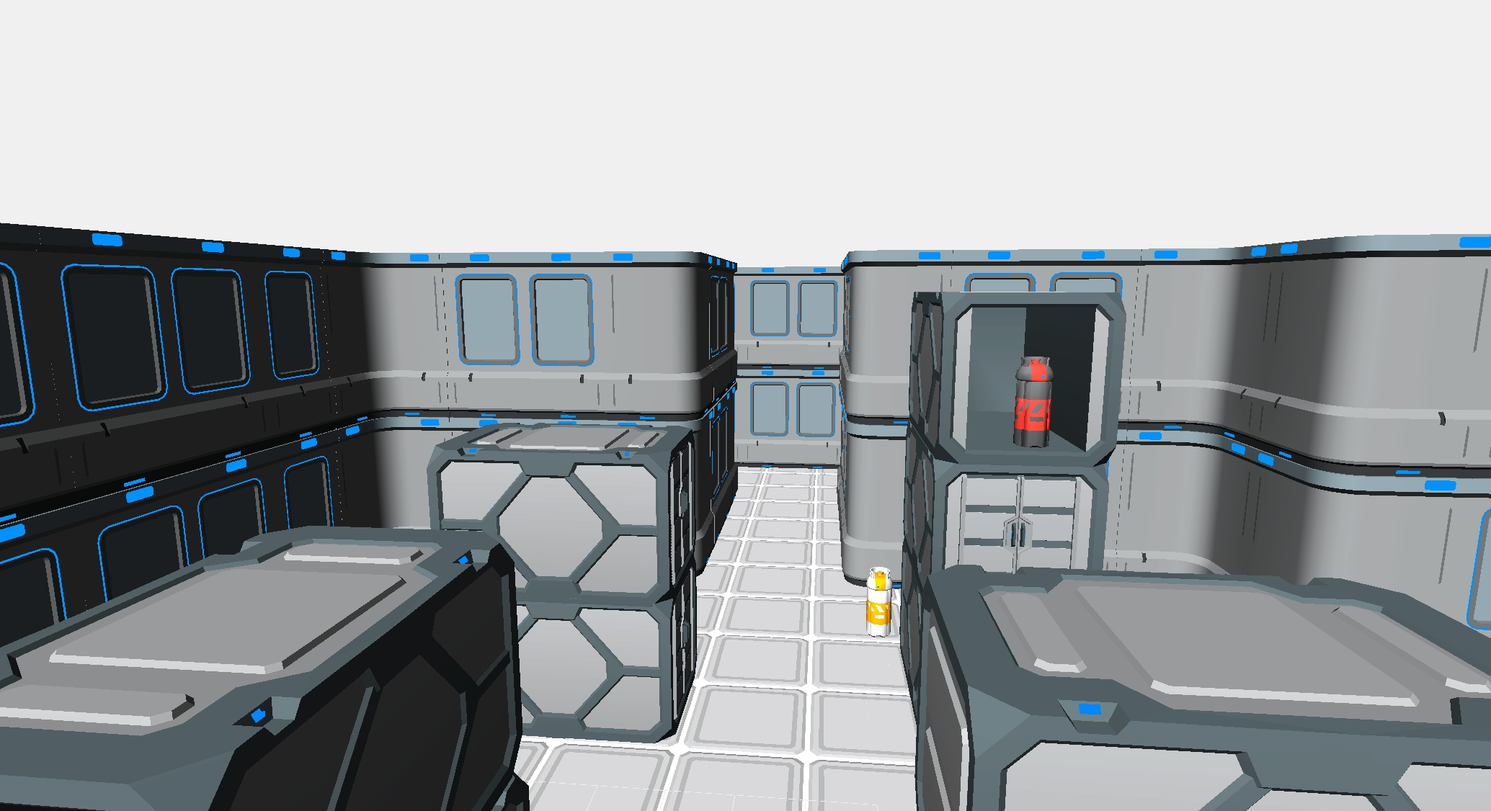red_barrel: (1014, 357, 1051, 447)
yellow_barrel: (866, 567, 893, 636)
